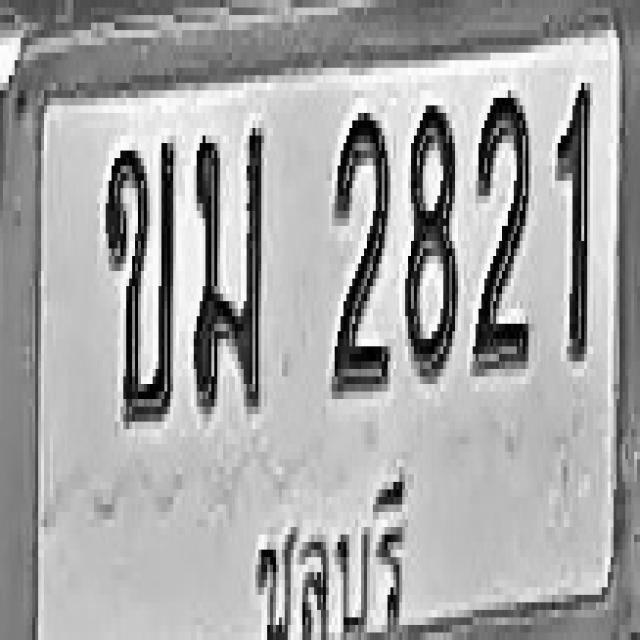1: (555, 83, 590, 361)
11KhorKhai: (104, 140, 175, 426)
2: (332, 109, 390, 395), (472, 90, 528, 369)
42MorMa: (192, 124, 263, 410)
8: (404, 98, 456, 376)
Chonburi: (248, 462, 412, 640)
